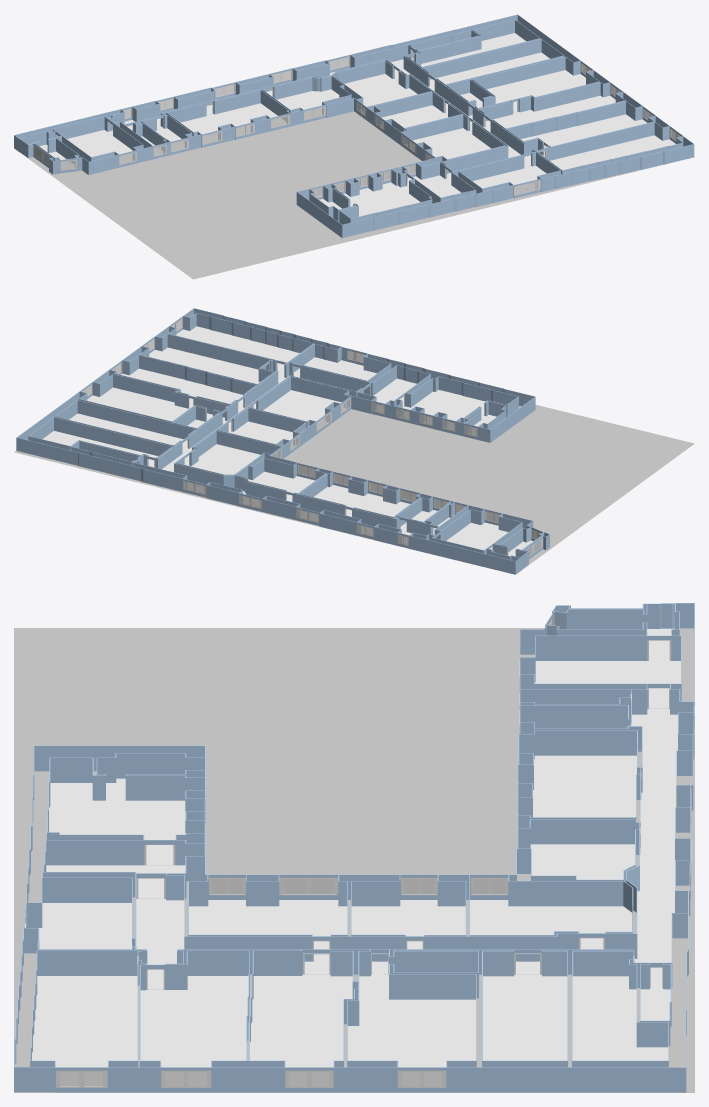
The model's file is 4thfloor.glb.
The picture shows the model from 3 angles, top to bottom: view 1: azimuth 30°, elevation 25°; view 2: azimuth 150°, elevation 25°; view 3: azimuth 270°, elevation 25°; orthographic projection. The views are drawn at different scales.
Visible parts, largest first — view 1: ground_1, room_484_2836, wall_178_1066, room_470_2808, room_480_2828, wall_286_1715, room_482_2832, room_479_2826, room_477_2822, room_478_2824, room_472_2812, wall_161_964 (+30 smaller); view 2: ground_1, room_484_2836, room_480_2828, room_482_2832, wall_176_1054, room_479_2826, wall_187_1120, wall_12_71, room_477_2822, room_478_2824, wall_280_1679, room_470_2808 (+31 smaller); view 3: ground_1, room_487_2842, room_480_2828, room_479_2826, room_484_2836, room_477_2822, room_475_2818, room_482_2832, room_470_2808, wall_158_946, room_474_2816, room_478_2824 (+39 smaller).
Part boxes in pixels (left/top/right/bottom): ground_1: left=21, top=79, right=694, bottom=279; room_484_2836: left=460, top=70, right=585, bottom=118; wall_178_1066: left=423, top=39, right=541, bottom=79; room_470_2808: left=181, top=103, right=285, bottom=143; room_480_2828: left=550, top=135, right=675, bottom=170; wall_286_1715: left=546, top=122, right=654, bottom=160; room_482_2832: left=319, top=182, right=420, bottom=216; room_479_2826: left=521, top=114, right=646, bottom=155; room_477_2822: left=484, top=95, right=615, bottom=131; room_478_2824: left=405, top=128, right=490, bottom=159; room_472_2812: left=344, top=74, right=417, bottom=115; wall_161_964: left=473, top=57, right=565, bottom=89; ground_1: left=14, top=405, right=694, bottom=570; room_484_2836: left=87, top=387, right=226, bottom=427; room_480_2828: left=176, top=326, right=299, bottom=374; room_482_2832: left=401, top=390, right=496, bottom=435; wall_176_1054: left=77, top=400, right=195, bottom=440; room_479_2826: left=149, top=347, right=259, bottom=383; wall_187_1120: left=54, top=417, right=171, bottom=456; wall_12_71: left=409, top=535, right=515, bottom=574; room_477_2822: left=121, top=368, right=244, bottom=412; room_478_2824: left=263, top=390, right=344, bottom=429; wall_280_1679: left=167, top=334, right=270, bottom=369; room_470_2808: left=314, top=485, right=410, bottom=516; ground_1: left=14, top=628, right=694, bottom=1092; room_487_2842: left=136, top=709, right=677, bottom=989; room_480_2828: left=32, top=976, right=137, bottom=1085; room_479_2826: left=140, top=976, right=248, bottom=1086; room_484_2836: left=348, top=974, right=475, bottom=1086; room_477_2822: left=250, top=974, right=352, bottom=1086; room_475_2818: left=483, top=974, right=567, bottom=1060; room_482_2832: left=49, top=778, right=185, bottom=864; room_470_2808: left=533, top=755, right=636, bottom=817; wall_158_946: left=446, top=1067, right=686, bottom=1092; room_474_2816: left=572, top=976, right=668, bottom=1060; room_478_2824: left=189, top=900, right=347, bottom=961.
Bounding box in the file's own units: 9965 × 250 × 6170.
